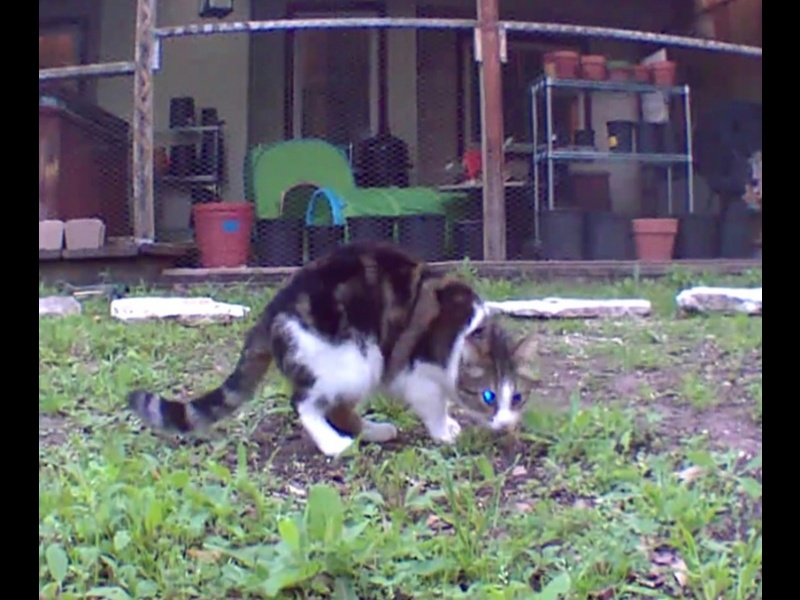cat: (112, 244, 543, 466)
